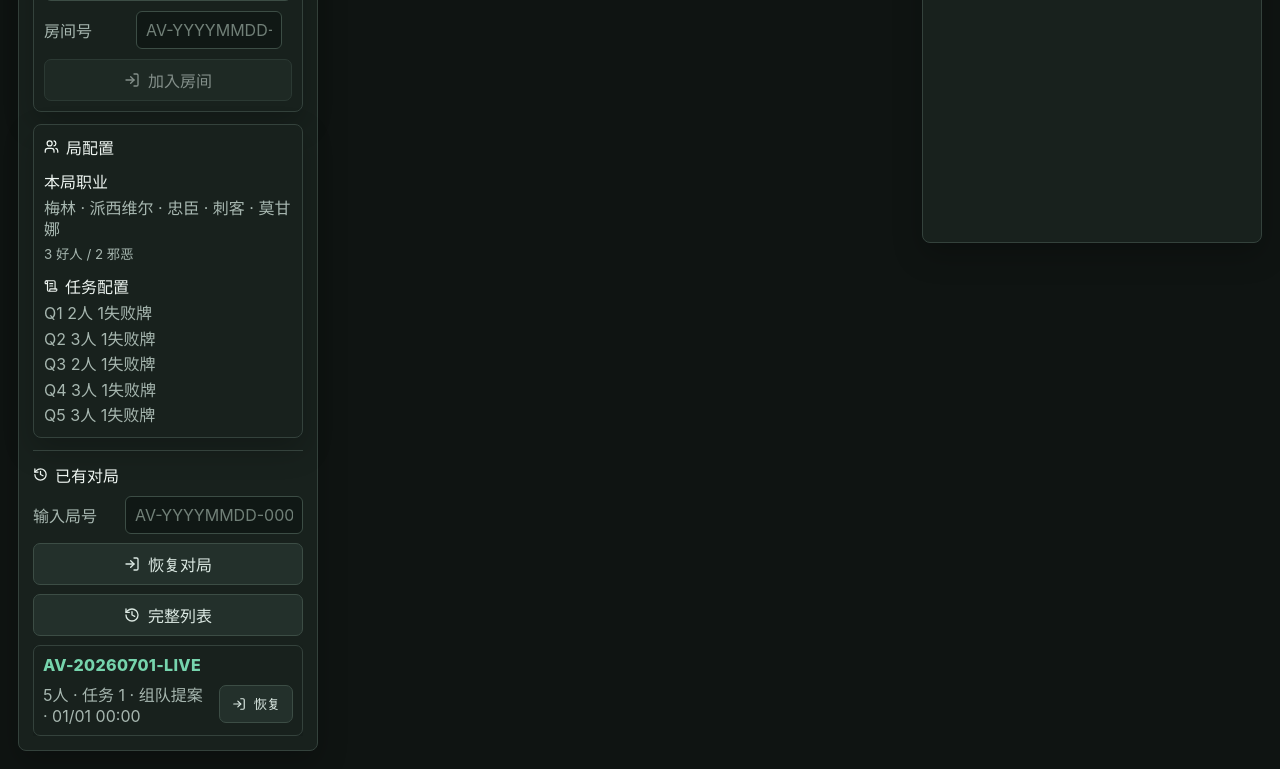
Test: Avalon app › shows only unfinished games in the quick restore list and opens a full saved-game dialog
(page scrolled)
Expected: the button "AV-20260701-LIVE" is shown, [43,655,201,675]
Expected: the button "AV-20260701-DONE" is not shown
Click the button "完整列表" at (168, 615), box [33,594,303,636]
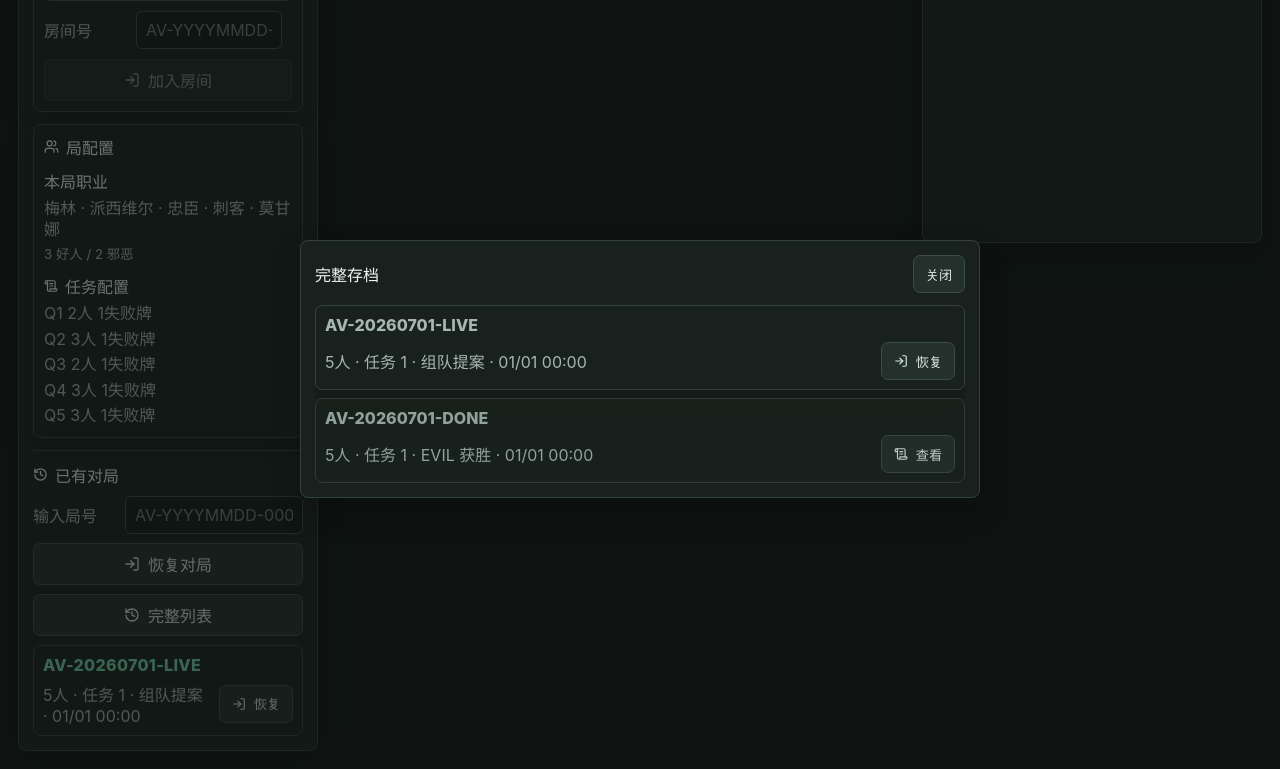
Expected: the dialog "完整存档" shows "AV-20260701-LIVE", [325,315,478,335]
Expected: the dialog "完整存档" shows "AV-20260701-DONE", [325,408,488,428]
Expected: the button "查看" is enabled, [881,435,955,473]
